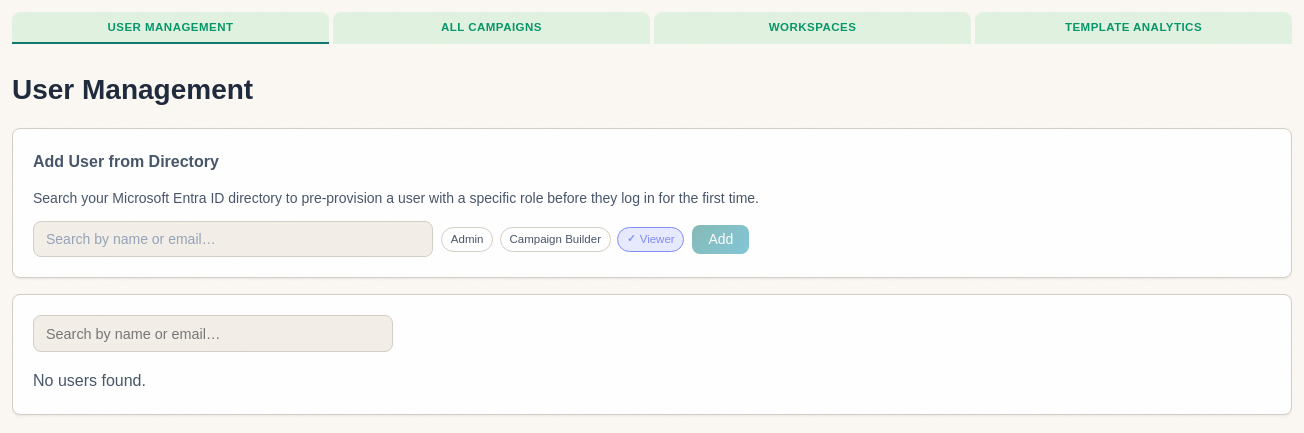
Admin workspaces tab › deactivates an active team workspace
Click the button "Workspaces": (812, 28) [654,12,971,44]
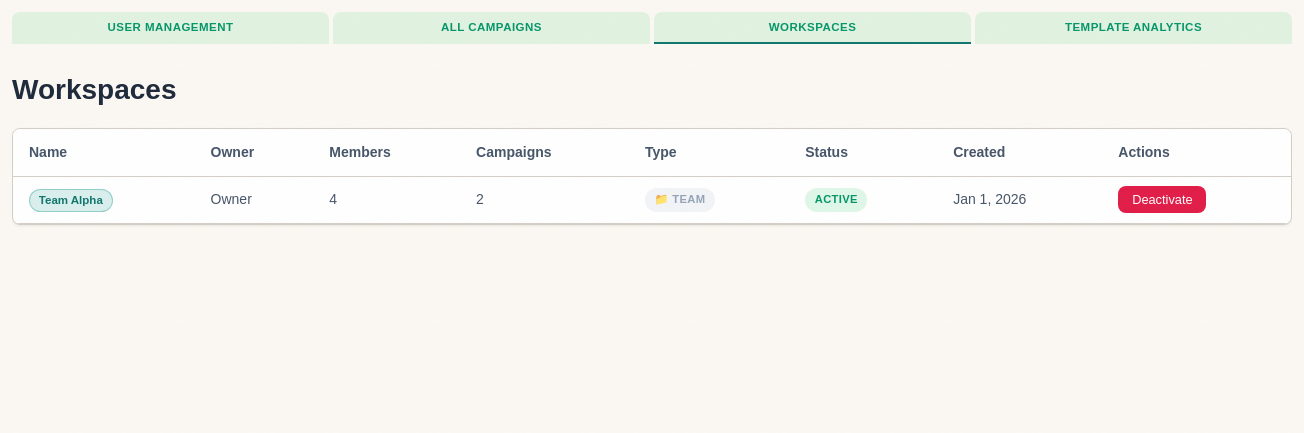
Click the button "Deactivate": (1162, 200) [1118,186,1206,213]
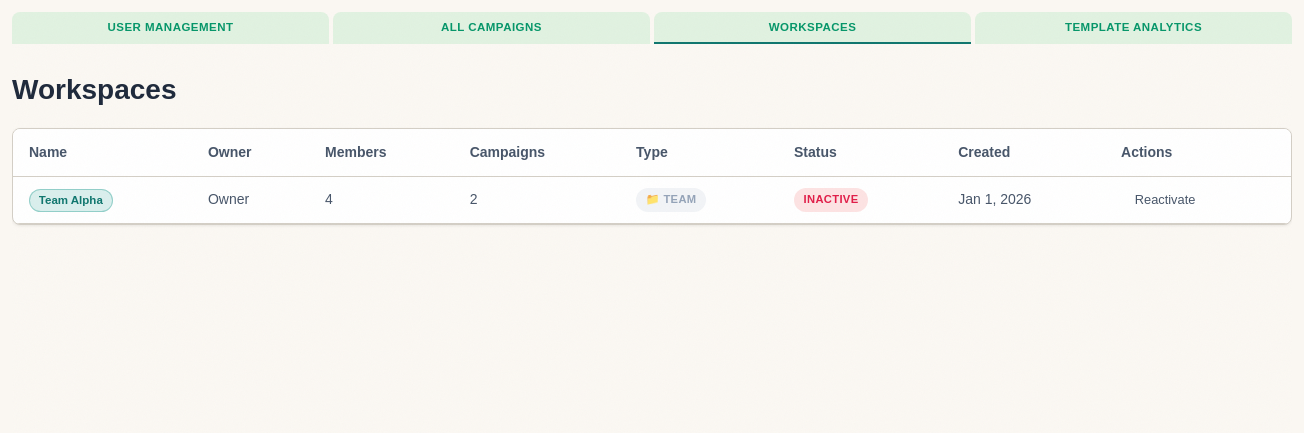
Now the text "Inactive" is shown, box [794,188,868,212]
Now the button "Reactivate" is shown, box [1121,186,1209,213]
